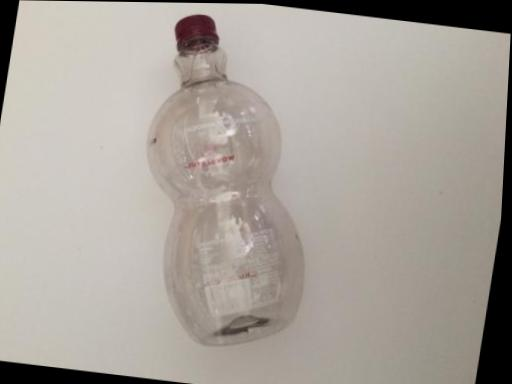plastic: (147, 15, 304, 345)
